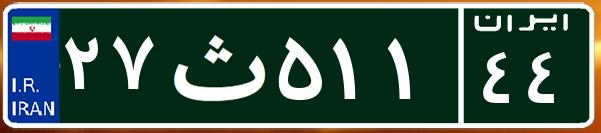1: (385, 28, 445, 110), (330, 28, 385, 110)
2: (57, 26, 110, 107)
4: (475, 38, 525, 113), (525, 38, 570, 115)
5: (273, 28, 330, 110)
7: (110, 28, 158, 105)
ث: (158, 15, 273, 115)
